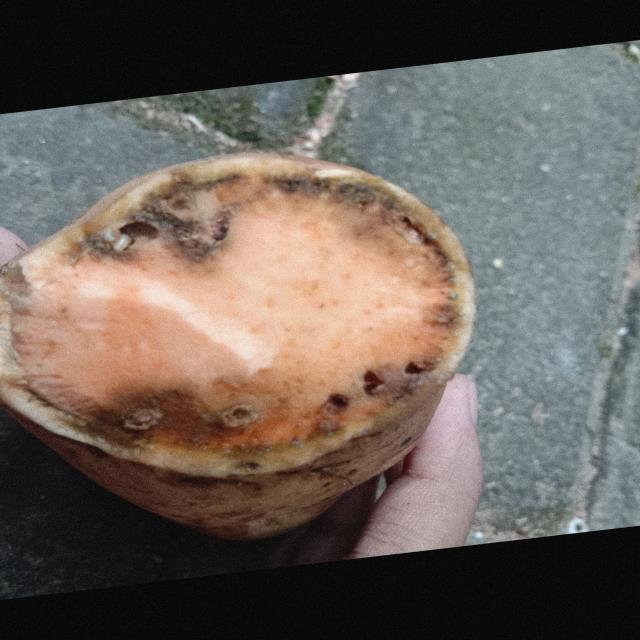Sick Sweet Potato_Tuber Rot: (2, 154, 475, 451)
